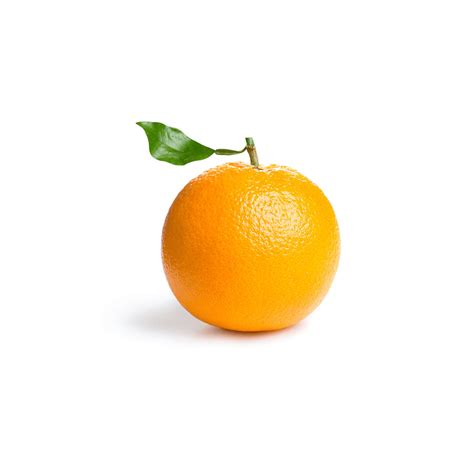orange: (155, 159, 349, 334)
